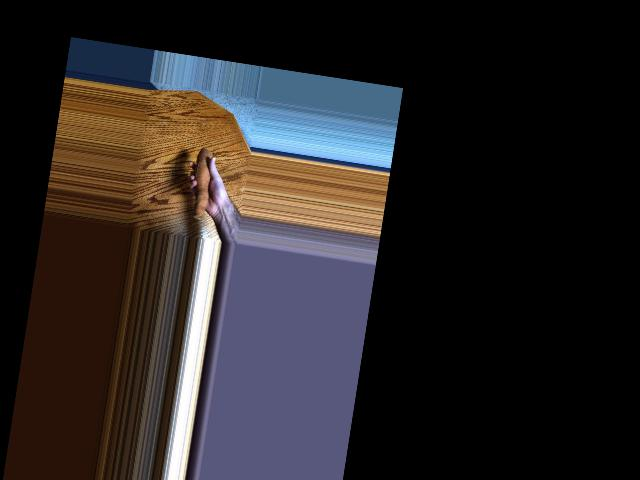sweet_potato: (185, 140, 225, 224)
